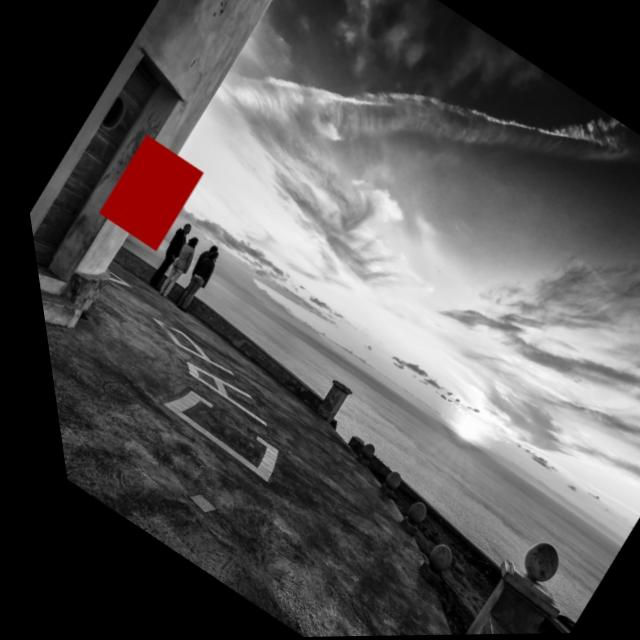RedSquare: (74, 124, 220, 262)
